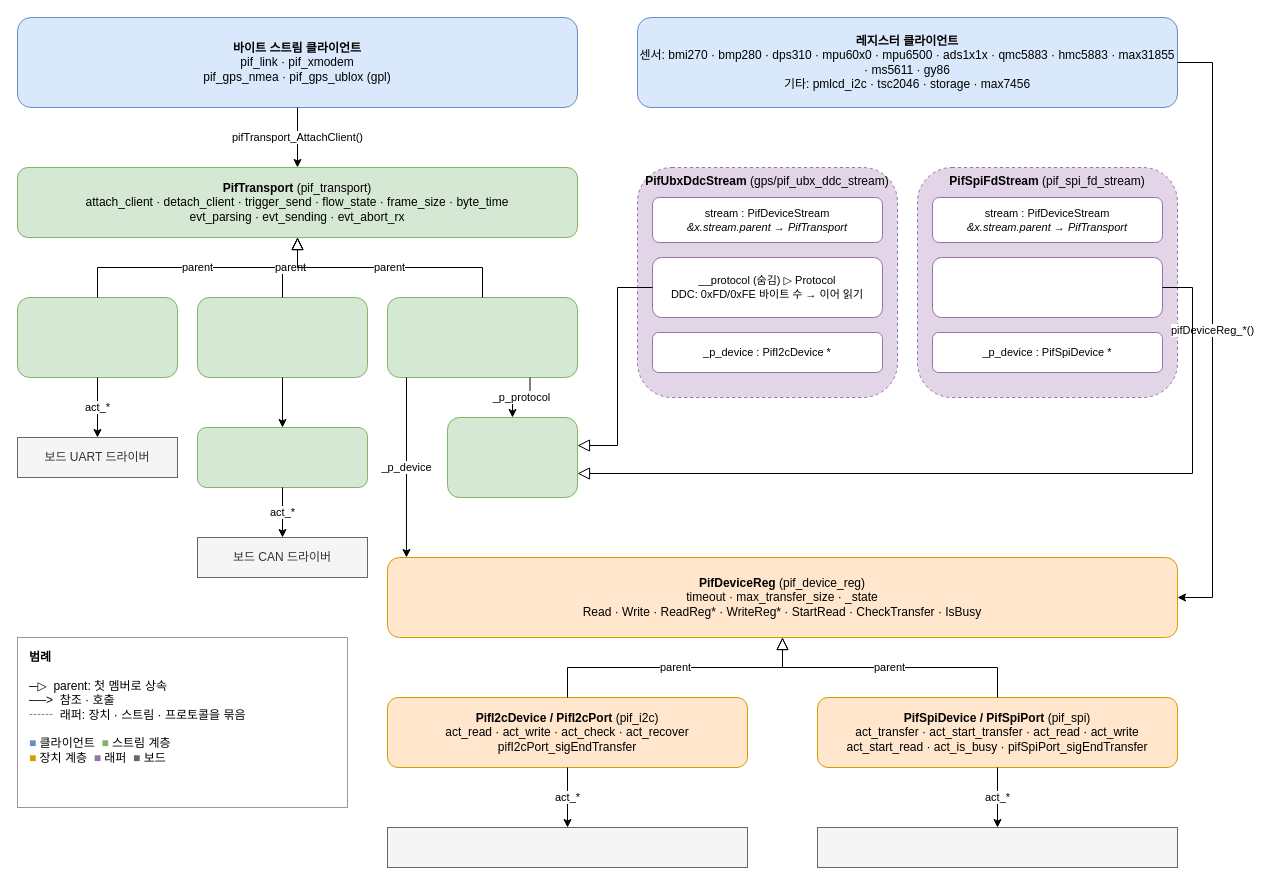
Image size: 1271x885. Some labels were removed from this diagram. Each missing label, with the centre of its shape:
"__protocol (숨김) ▷ Protocol 전이중 전송, idle 바이트(0xFF) 채움" belongs at pixel 1047 287.
"PifCan (pif_can)" belongs at pixel 282 457.
"PifCanStream (pif_can_stream) CAN ID 한 쌍 ↔ 바이트" belongs at pixel 282 337.
"PifDevice StreamProtocol start · finish write · reset" belongs at pixel 512 457.
"PifDeviceStream (pif_device_stream) 폴링 엔진: 버퍼 · 태스크 송신 수집 · 재시도" belongs at pixel 482 337.
"PifUart (pif_uart)" belongs at pixel 97 337.
"보드 I2C 드라이버" belongs at pixel 567 847.
"보드 SPI 드라이버" belongs at pixel 997 847.
